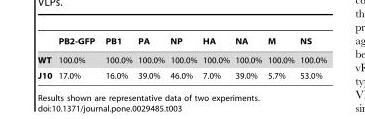table: (37, 36, 326, 79)
table column: (54, 36, 99, 79), (99, 36, 134, 79), (166, 36, 199, 79), (231, 36, 264, 79), (134, 36, 166, 79), (199, 36, 231, 79), (264, 36, 296, 79), (296, 36, 326, 79), (37, 36, 54, 79)
table column header: (37, 36, 326, 50)
table row: (37, 50, 326, 67), (37, 36, 326, 50), (37, 67, 326, 79)
